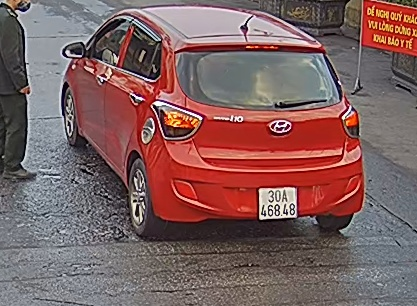vehicle plate: (254, 184, 303, 221)
